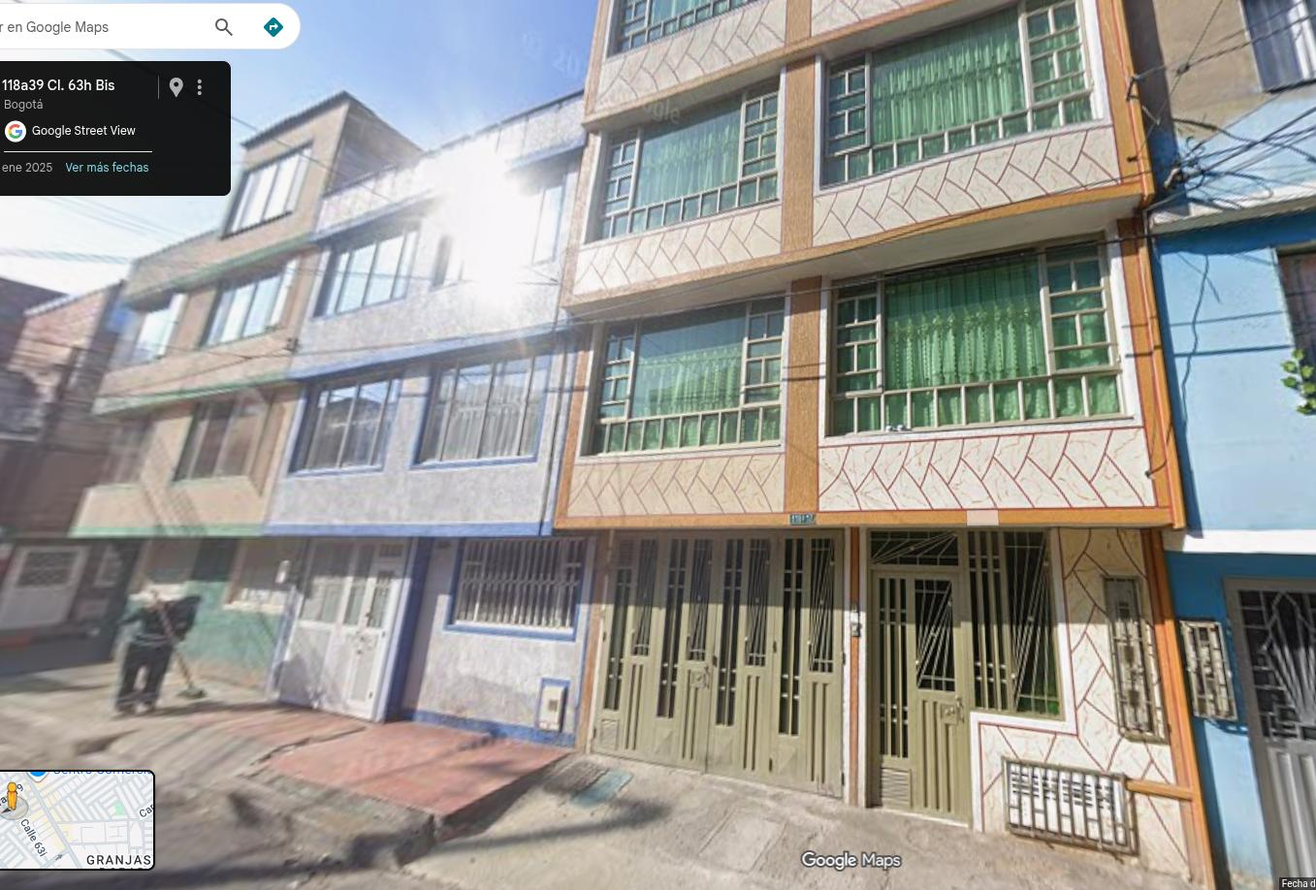casa: (554, 0, 1210, 882), (266, 95, 592, 726), (74, 92, 419, 683)
